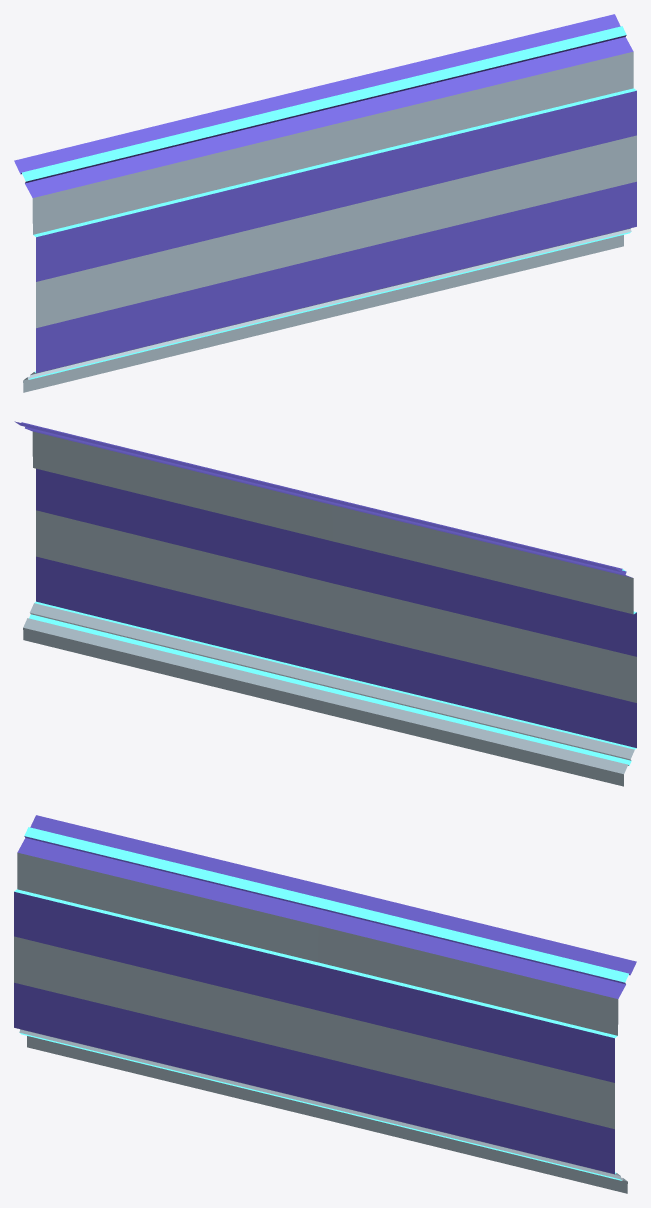
The model's file is Wall_A.fbx.
3 views of the same model, one above another, from view 1: azimuth 30°, elevation 25°; view 2: azimuth 150°, elevation 25°; view 3: azimuth 330°, elevation 25° (orthographic).
Parts seen in each view (by area): view 1: StraightWall; view 2: StraightWall; view 3: StraightWall.
Part boxes in pixels (<box>): StraightWall: <box>14,14,636,392</box>; StraightWall: <box>14,421,636,786</box>; StraightWall: <box>14,815,636,1193</box>.
Size of the model in its own units: 1925 by 690 by 125.
